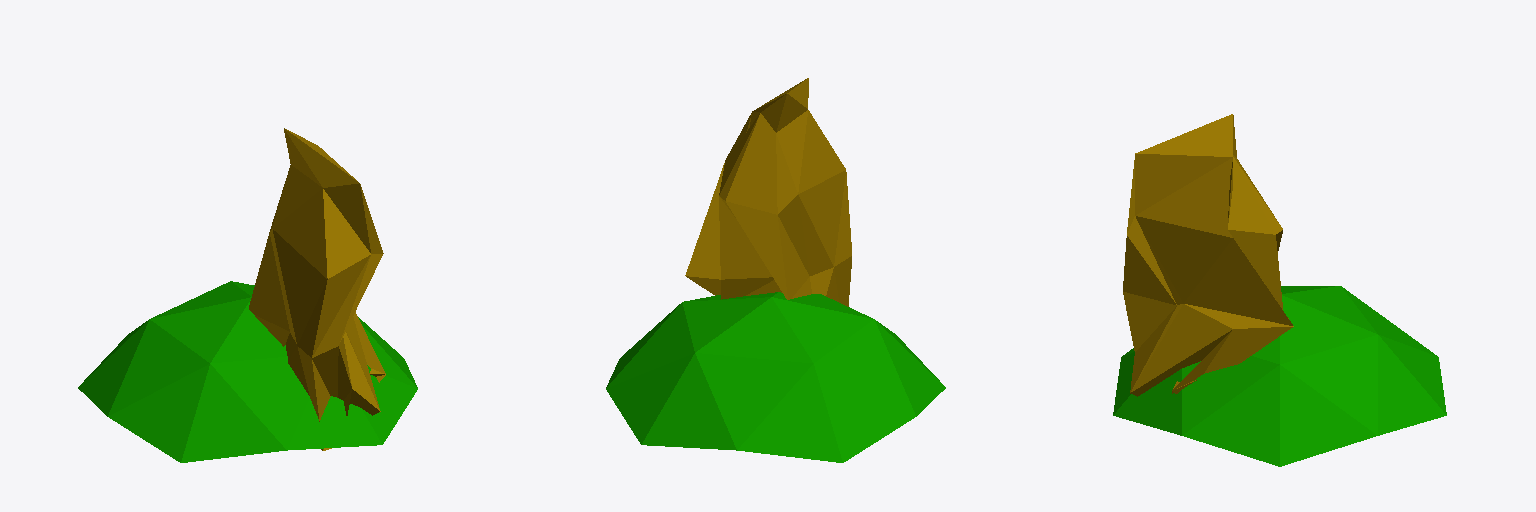
Rendered from sibur.obj.
The picture shows the model from 3 angles: view 1: azimuth 30°, elevation 25°; view 2: azimuth 150°, elevation 25°; view 3: azimuth 270°, elevation 25°; orthographic projection.
Visible parts, largest first — view 1: Icosphere, Icosphere.001; view 2: Icosphere, Icosphere.001; view 3: Icosphere.001, Icosphere.
Part boxes in pixels (x1,y1,x2,y2): Icosphere: (78,281,417,462); Icosphere.001: (249,128,385,450); Icosphere: (606,292,945,462); Icosphere.001: (685,78,851,306); Icosphere.001: (1123,114,1293,396); Icosphere: (1113,286,1446,466).
Bounding box in the file's own units: 1.75 × 1.62 × 1.7.